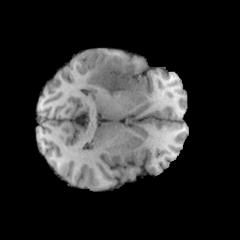glioma: (85, 55, 135, 94)
